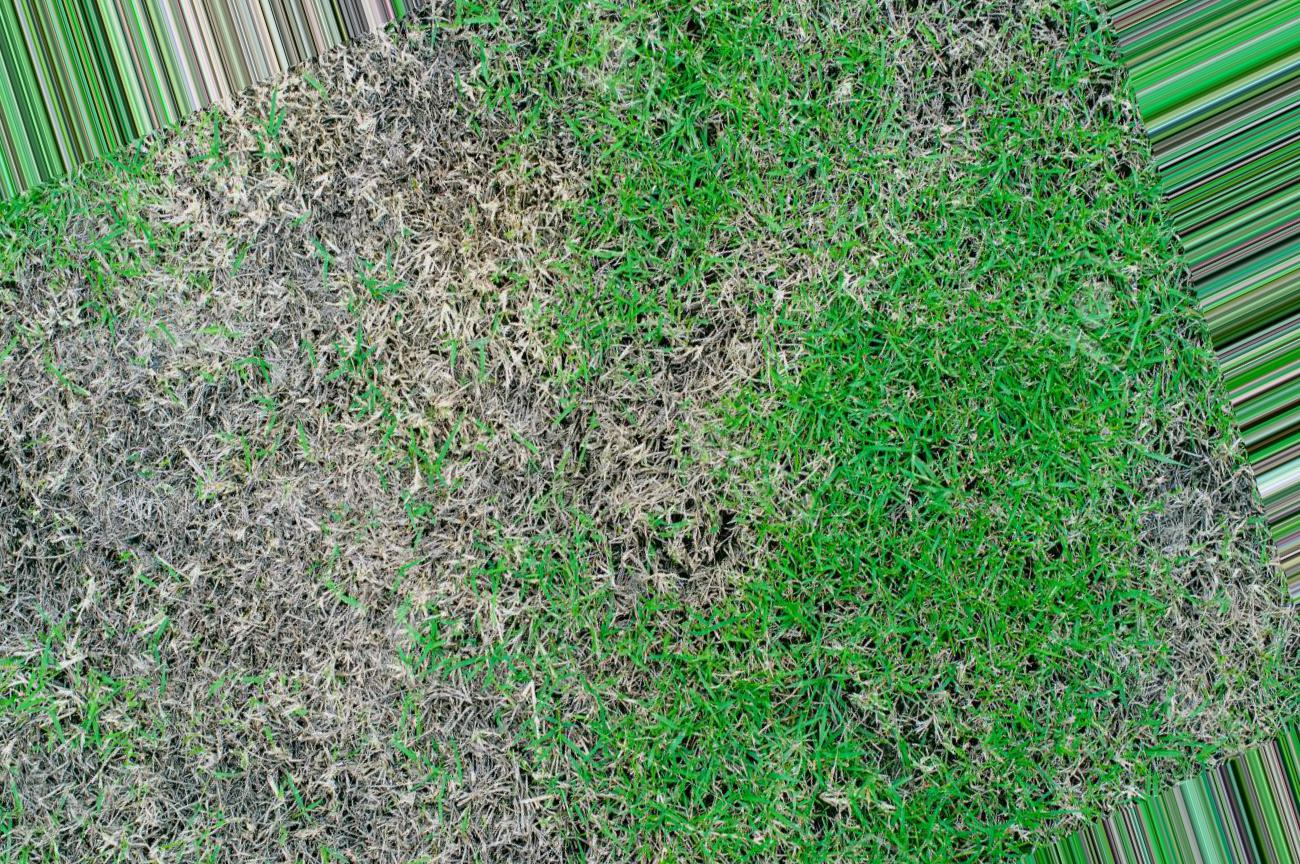patch: (38, 261, 419, 848), (290, 110, 507, 573)
